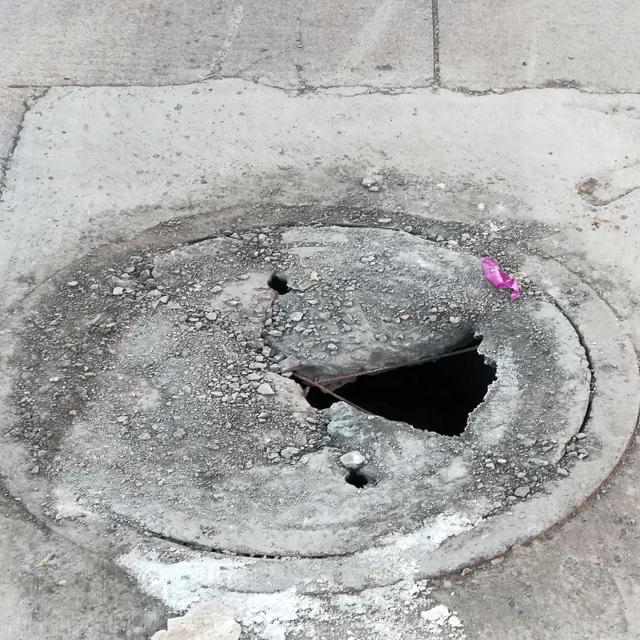broke: (0, 207, 640, 589)
